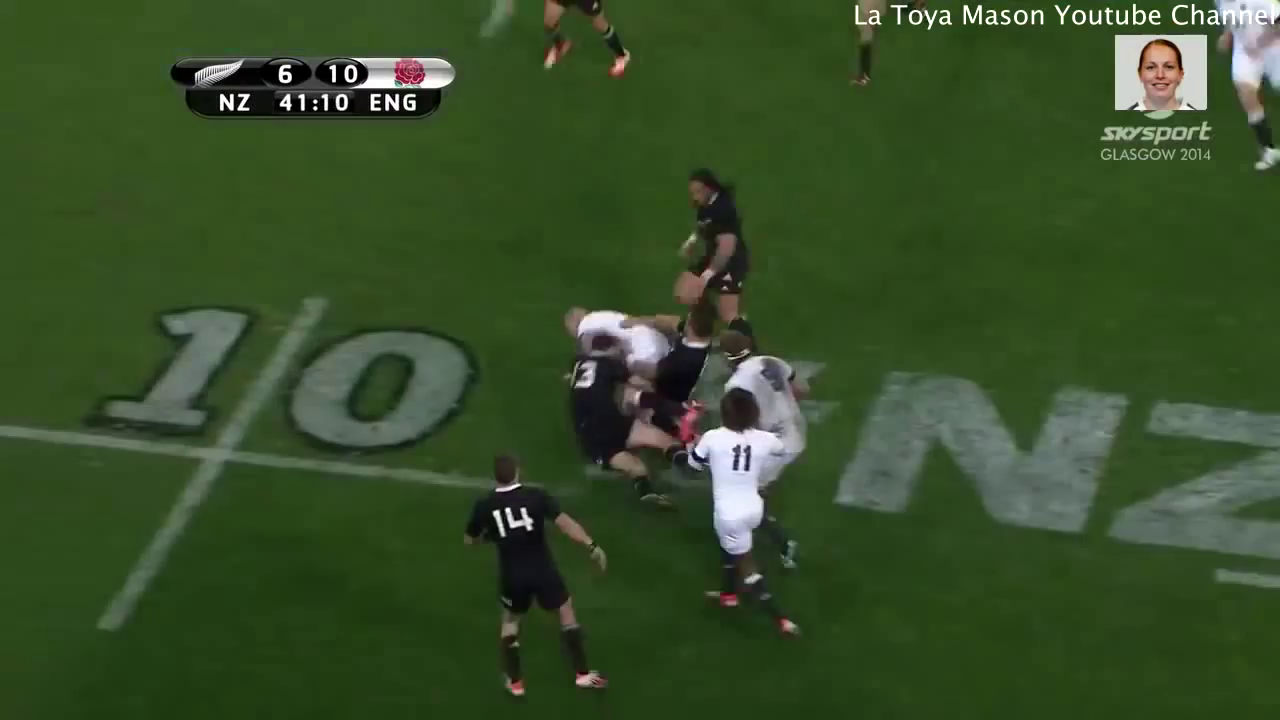10_metre: (1, 284, 550, 644)
player: (470, 453, 625, 701), (685, 390, 820, 642), (667, 164, 760, 331), (727, 332, 813, 454), (1221, 1, 1280, 176), (563, 335, 632, 463), (534, 1, 637, 77)
ruck: (552, 292, 729, 494)
